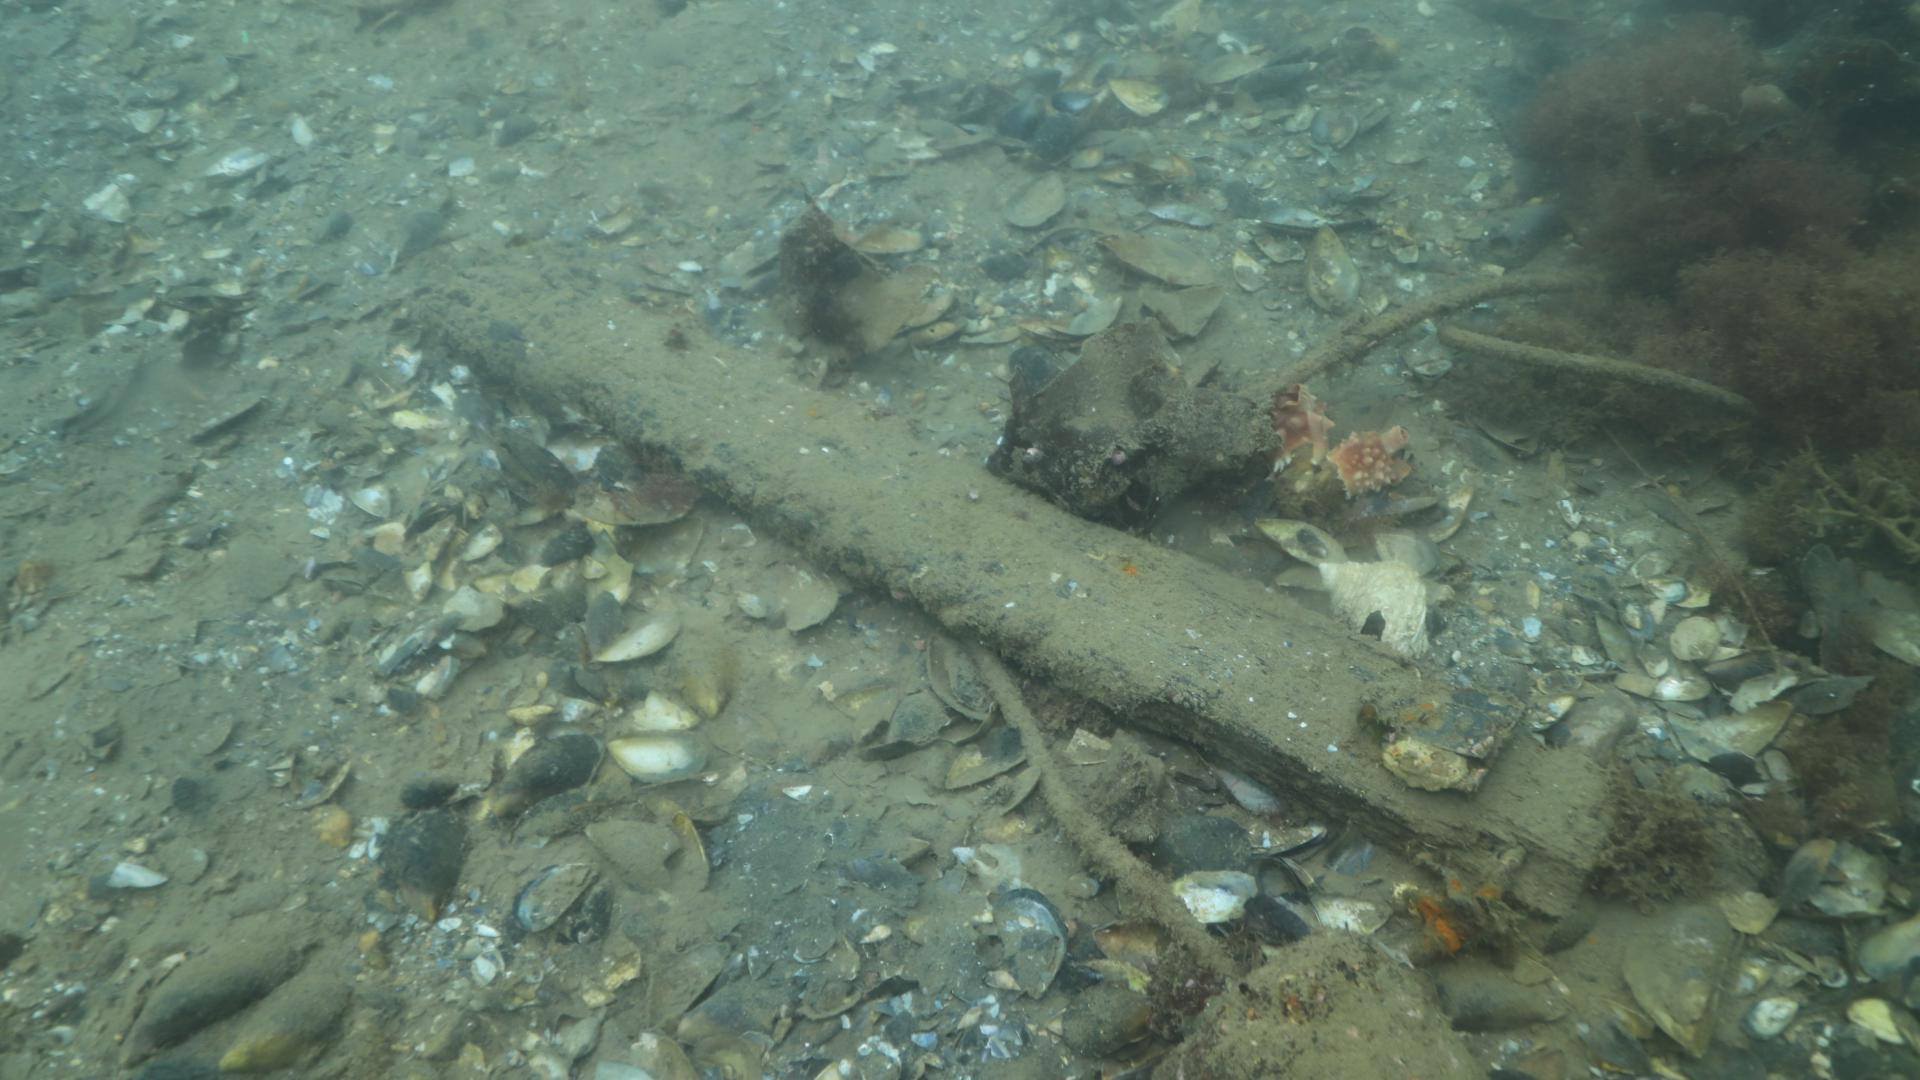bundle of ropes: (1266, 266, 1768, 426)
rope: (971, 645, 1240, 985)
wood: (396, 243, 1630, 924)
